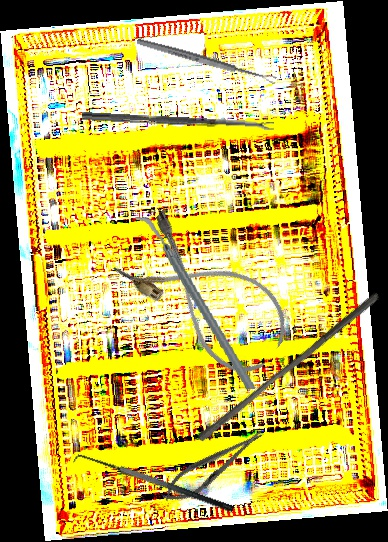Cannula: (110, 204, 303, 386)
Chopper: (133, 204, 257, 402)
Needle Holder: (156, 421, 271, 512)
Pusher: (195, 284, 382, 449)
Spatula Surgical: (71, 445, 235, 527)
Surgical Spoon: (136, 36, 277, 86), (81, 111, 275, 132)
